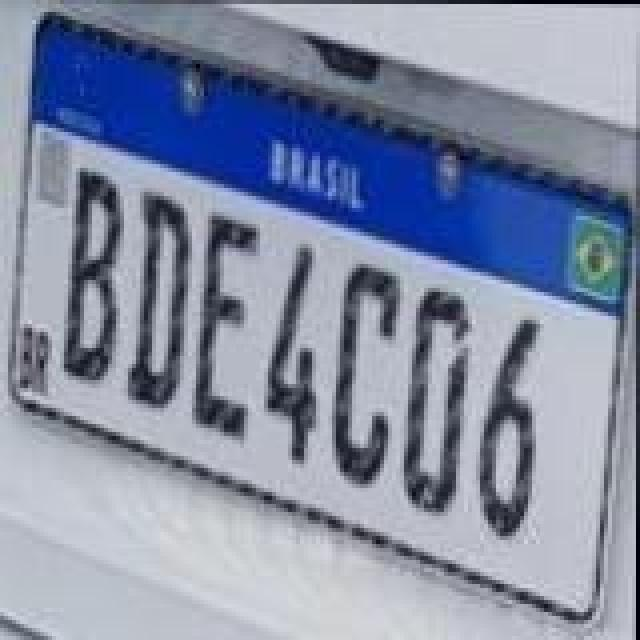4: (266, 242, 322, 466)
6: (478, 314, 542, 538)
B: (62, 168, 126, 384)
C: (330, 260, 402, 488)
D: (404, 286, 472, 518), (124, 184, 192, 408)
E: (196, 210, 264, 442)
